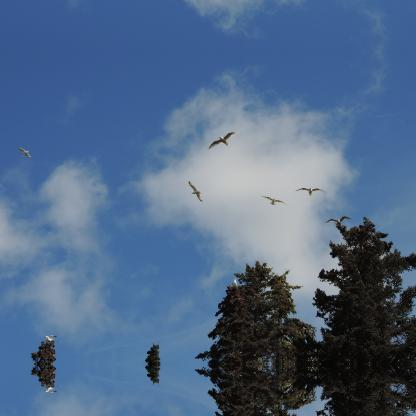Bird: (207, 129, 239, 149), (294, 185, 328, 197), (187, 181, 203, 201), (324, 214, 350, 226), (258, 196, 288, 206), (18, 146, 32, 158), (42, 334, 56, 342), (42, 386, 56, 394)
